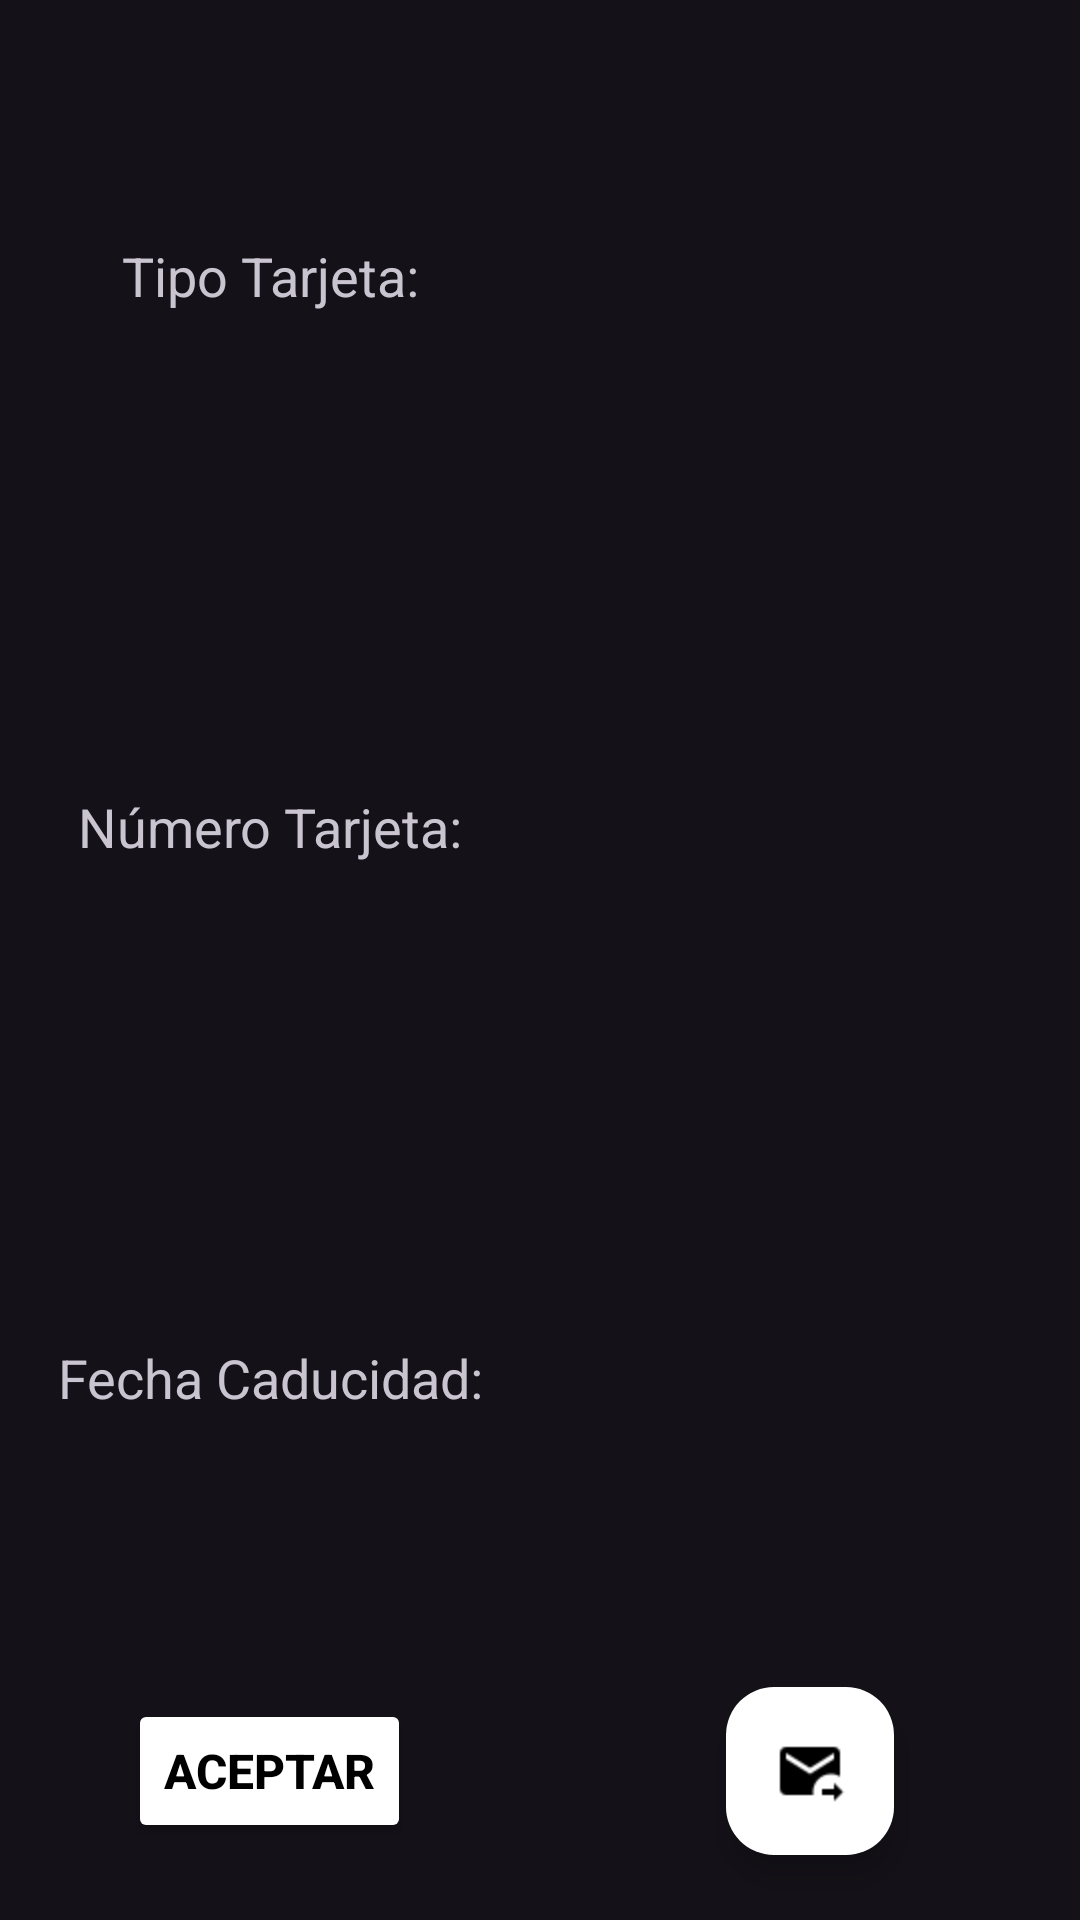

Icons on this 1080x1920 Android screen, each with its box as [x1=x1, y1=y1, x2=x2, y2=y2]:
email arrow right: [x1=726, y1=1687, x2=894, y2=1855]
